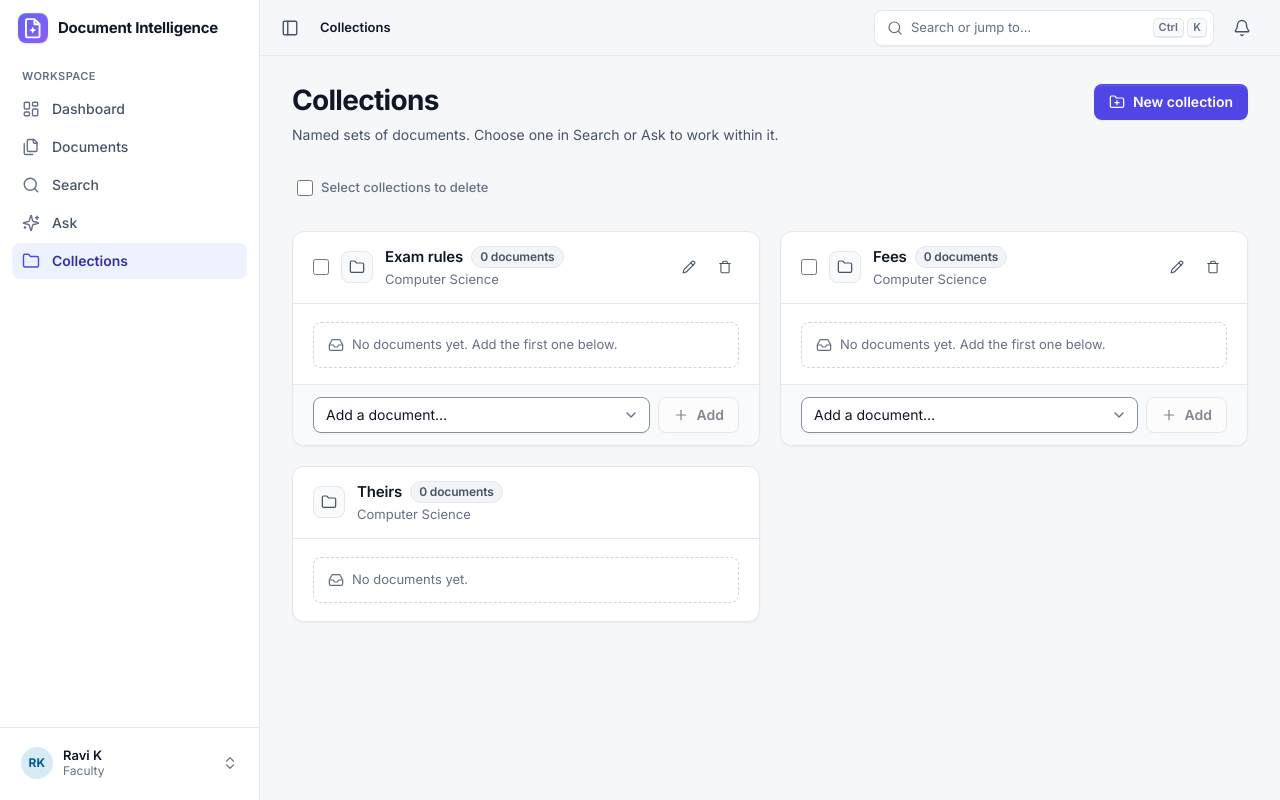
Test case: CollectionsPage bulk actions › deletes the selected collections, offering only the ones the user manages
The width and height of the screenshot is (1280, 800).
Click the checkbox named "Select Exam rules" at (321, 267), box [313, 259, 329, 275]
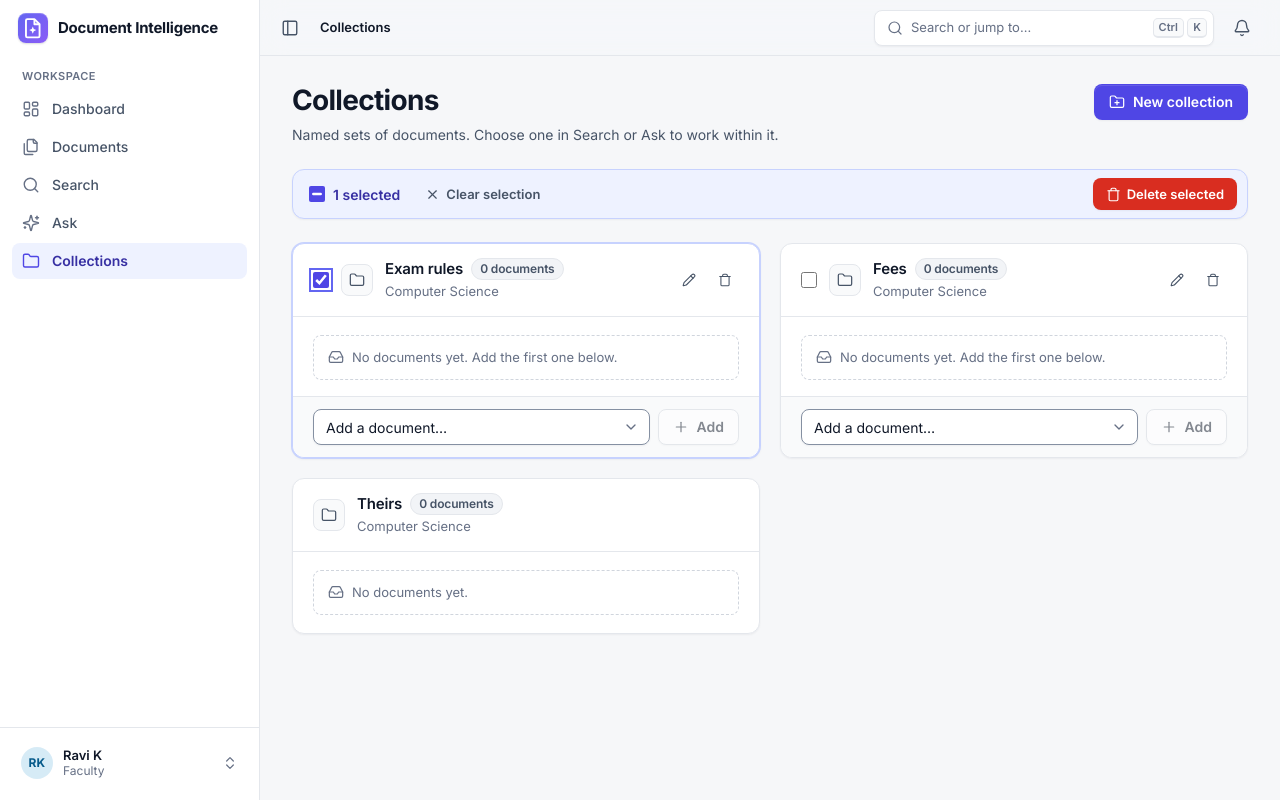
Result: the text "1 selected" is shown at [333, 184, 400, 205]
"Theirs" is not the user's to delete, so this is not "all collections".
Click the checkbox named "Select all collections you can delete" at (317, 194), box [309, 186, 325, 202]
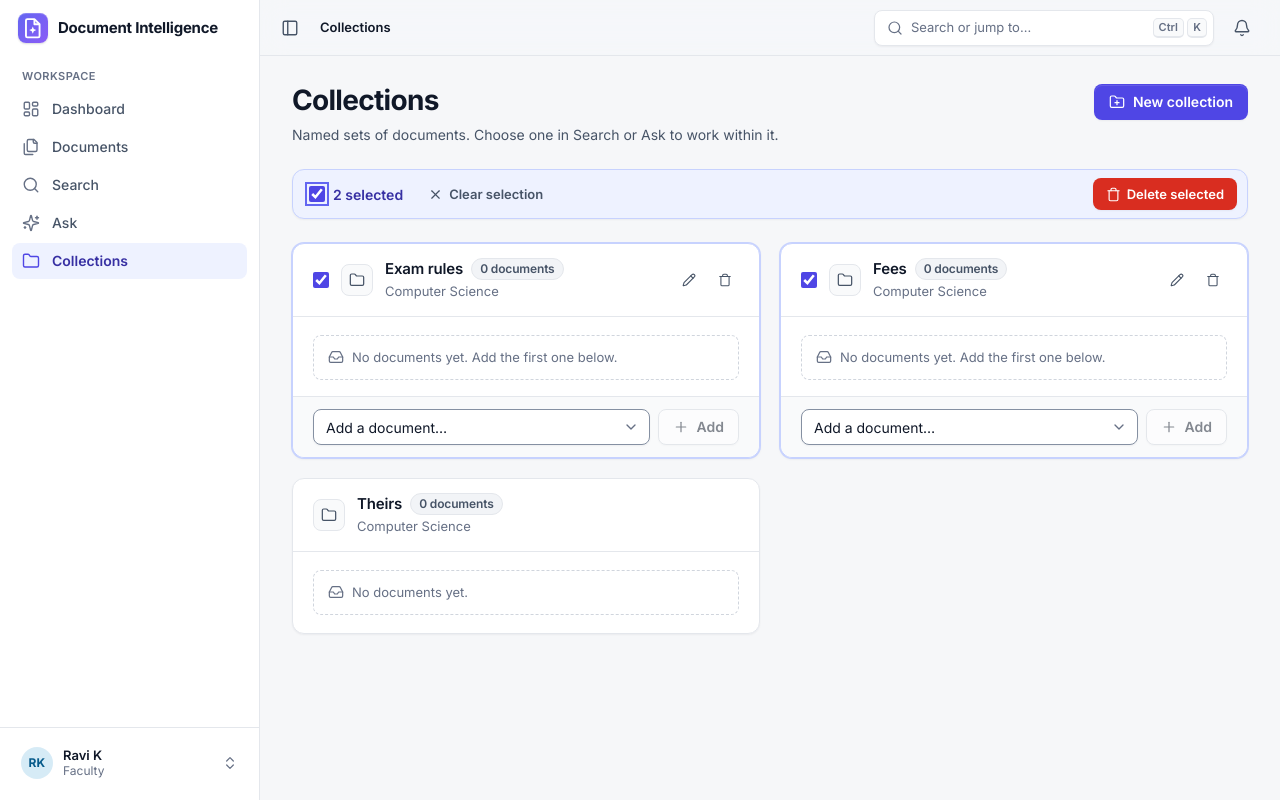
Result: the text "2 selected" is shown at [333, 184, 403, 205]
Click the button "Delete selected" at (1165, 194), box [1093, 178, 1237, 210]
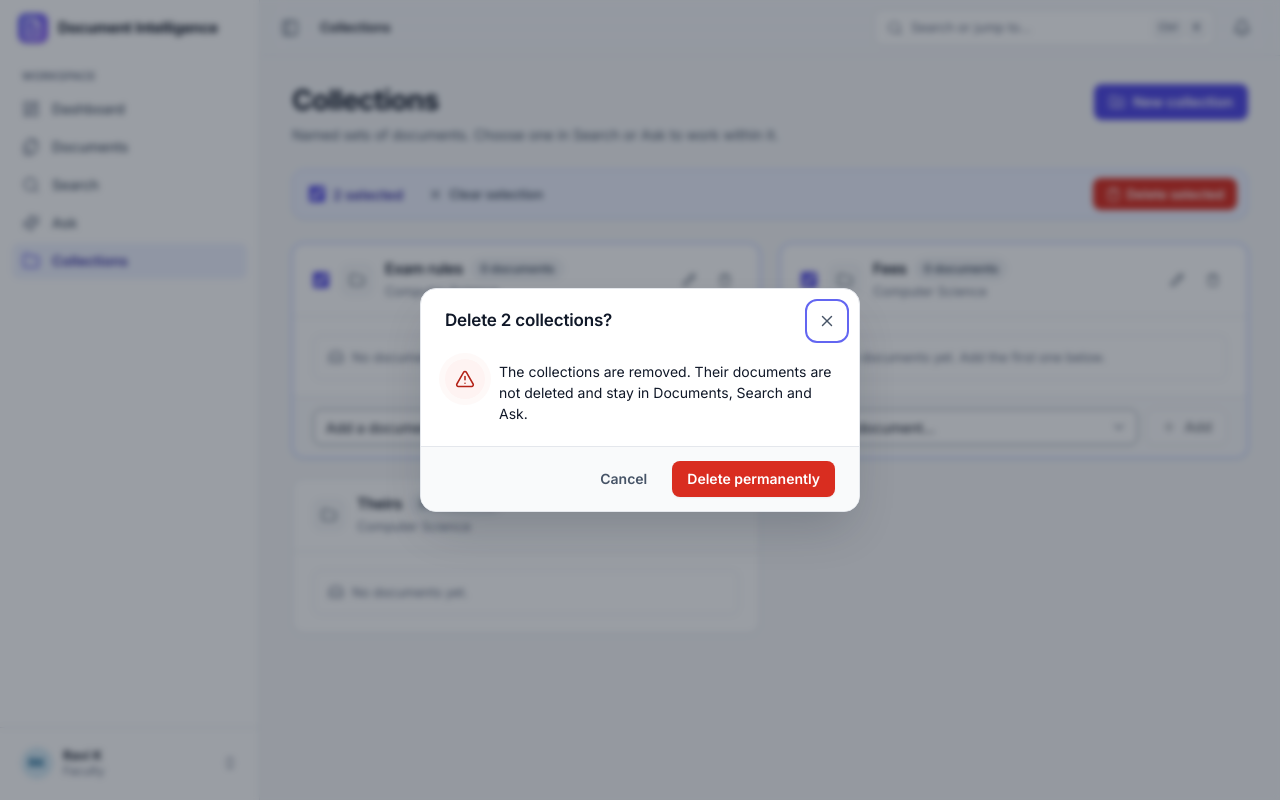
Click the button "Delete permanently" at (754, 479), box [672, 461, 835, 497]
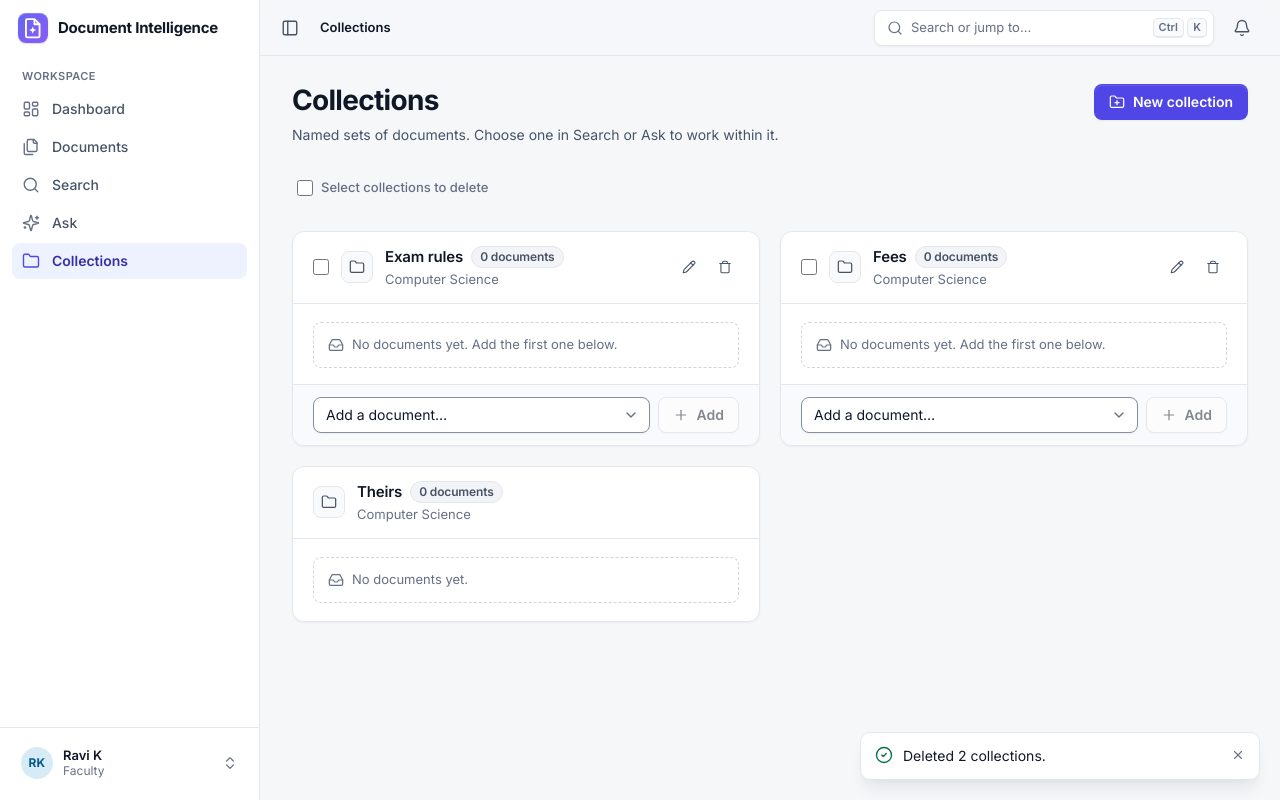
Result: the text "Deleted 2 collections." is shown at [903, 747, 1046, 764]
